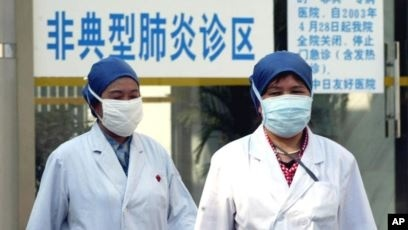correctlyWear: (257, 84, 312, 139), (93, 84, 144, 137)
